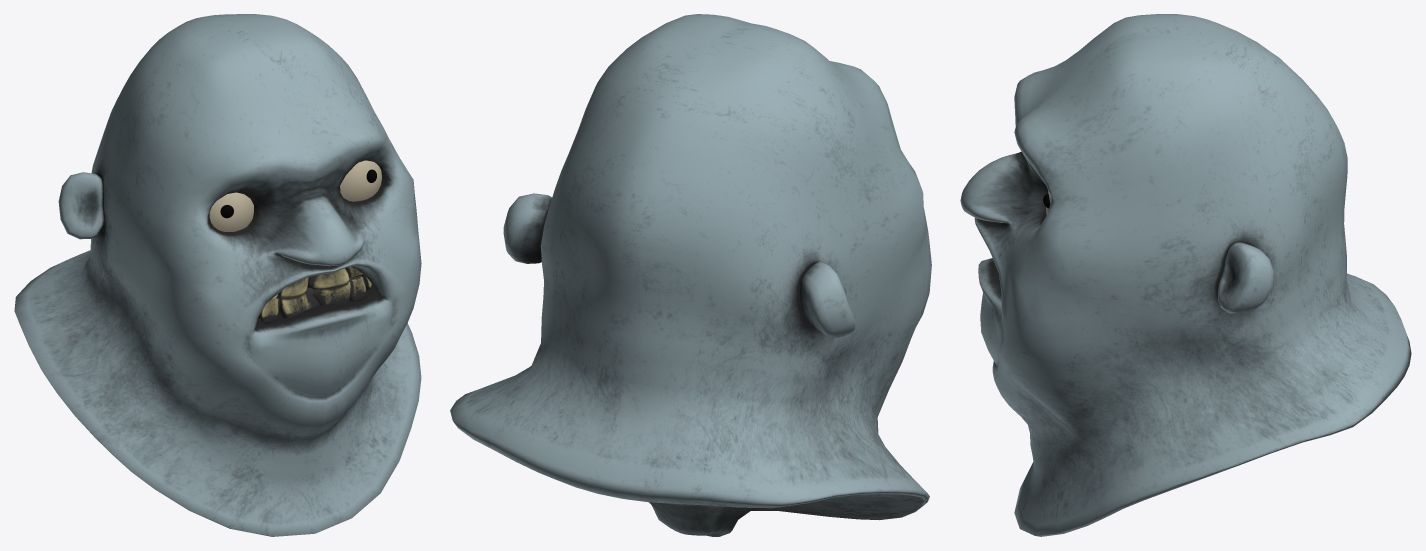
The model's file is b01_head.fbx.
The picture shows the model from 3 angles, left to right: view 1: azimuth 30°, elevation 25°; view 2: azimuth 150°, elevation 25°; view 3: azimuth 270°, elevation 25°; orthographic projection. The views are drawn at different scales.
Visible parts, largest first — view 1: b01_head1; view 2: b01_head1; view 3: b01_head1.
Boxes of the visible parts, box(x1,y1,x2,y2) form: b01_head1: box(14, 14, 421, 536); b01_head1: box(450, 14, 931, 536); b01_head1: box(960, 14, 1411, 536).
Bounding box in the file's own units: 36 × 45.11 × 38.25.
Materials: 1 (1 with a texture image).
